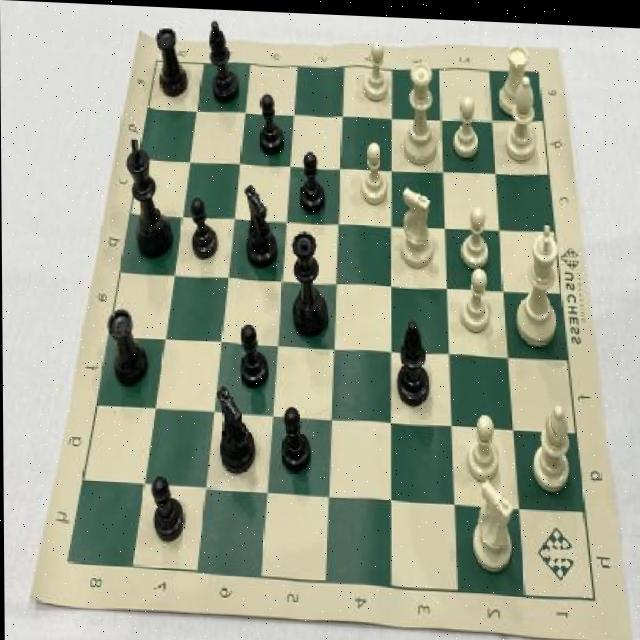bishop: (392, 310, 431, 407), (206, 13, 241, 103)
black-bishop: (125, 132, 175, 262)
black-king: (210, 378, 256, 477), (241, 179, 279, 271)
black-knight: (149, 470, 188, 545), (237, 317, 272, 390), (254, 84, 287, 158), (278, 400, 309, 473), (296, 146, 327, 214), (188, 193, 218, 263)
black-pawn: (287, 225, 330, 338)
black-queen: (105, 301, 151, 388), (153, 19, 188, 101)
black-rook: (529, 394, 575, 491), (502, 67, 536, 159)
white-bishop: (510, 213, 565, 346)
white-king: (467, 470, 512, 571), (395, 179, 437, 271)
white-knight: (458, 260, 494, 336), (465, 405, 499, 479), (360, 33, 393, 104), (359, 133, 391, 205), (451, 88, 483, 158), (460, 199, 492, 267)
white-pawn: (399, 52, 439, 165)
white-queen: (498, 33, 531, 114)
